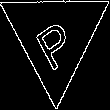P_NW: (30, 6, 81, 69)
